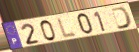0: (77, 12, 96, 37), (40, 19, 58, 43)
1: (93, 10, 107, 33)
2: (21, 22, 41, 46)
D: (110, 6, 133, 30)
L: (56, 16, 79, 40)
